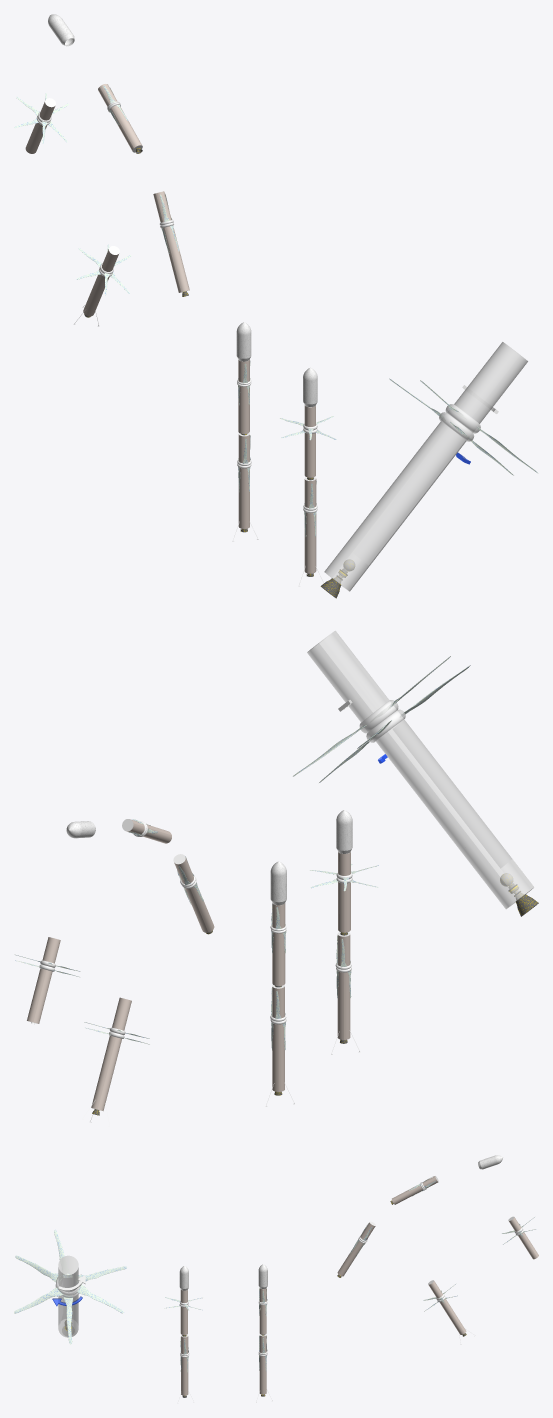
Rendered from Coaxial Rotor Rocket Landing.dae.
The picture shows the model from 3 angles, top to bottom: view 1: azimuth 30°, elevation 25°; view 2: azimuth 150°, elevation 25°; view 3: azimuth 270°, elevation 25°; orthographic projection. The views are drawn at different scales.
Visible parts, largest first — view 1: group_36 (×2), group_3 (×2), group_16 (×2), group_41, group_46, group_24; view 2: group_36 (×2), group_3 (×2), group_46 (×2), group_24, group_16, group_41, group_0, group_20; view 3: group_36 (×2), group_3 (×2), group_16 (×2), group_46 (×2), group_24, group_41.
Boxes of the visible parts, x1,y1,x2,y2 form: group_36 (×2): (324, 342, 527, 591); group_3 (×2): (238, 434, 316, 573); group_16 (×2): (98, 84, 249, 433); group_41: (153, 191, 189, 292); group_46: (304, 405, 315, 477); group_24: (83, 249, 118, 316); group_36 (×2): (307, 630, 534, 908); group_3 (×2): (272, 935, 350, 1091); group_46 (×2): (27, 851, 350, 1023); group_24: (91, 997, 131, 1110); group_16: (272, 903, 285, 985); group_41: (174, 858, 214, 932); group_0: (336, 810, 352, 853); group_20: (270, 861, 286, 905); group_36 (×2): (58, 1255, 78, 1337); group_3 (×2): (181, 1335, 266, 1395); group_16 (×2): (259, 1176, 438, 1334); group_46 (×2): (180, 1217, 538, 1334); group_24: (428, 1281, 466, 1334); group_41: (337, 1222, 375, 1276).
Bounding box in the file's own units: 3047383 × 1.08e+07 × 5540322.
